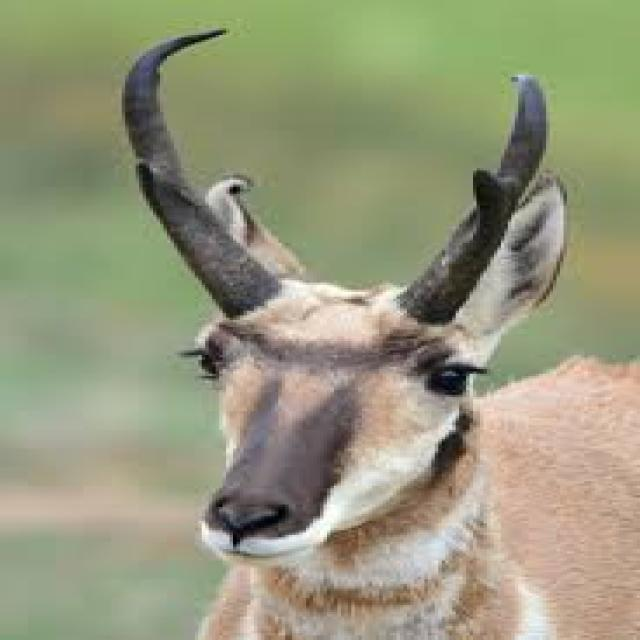Antelope: (114, 28, 640, 640)
